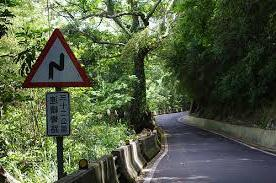double_bend_right: (21, 27, 92, 86)
